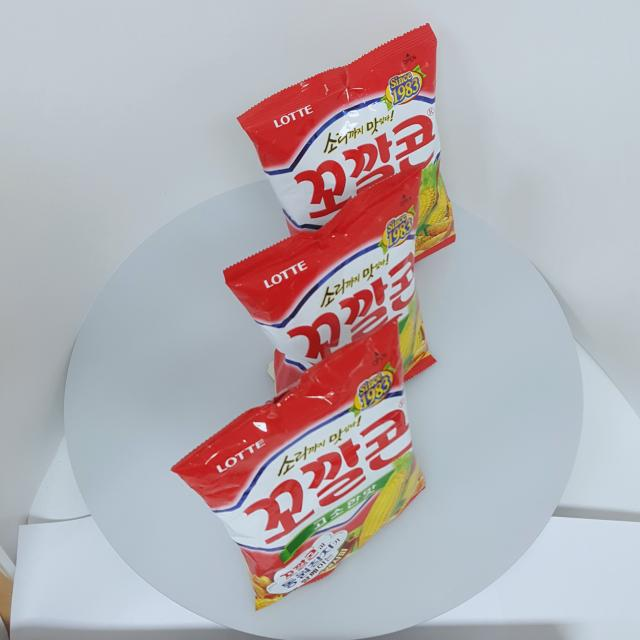-72G: (171, 314, 427, 613), (236, 24, 457, 293), (223, 162, 439, 429)
